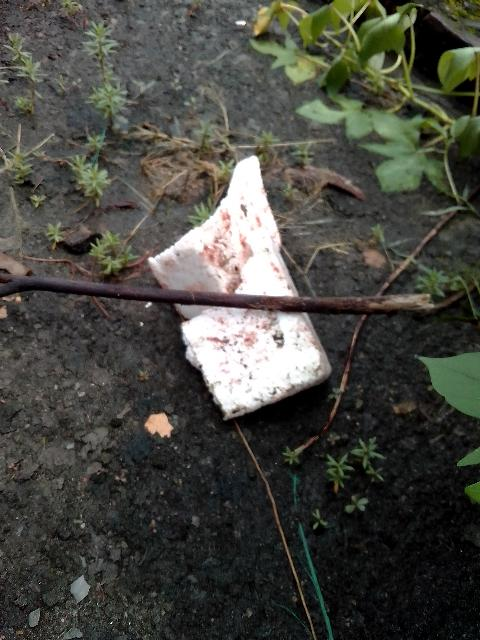cocksheet: (134, 162, 358, 419)
